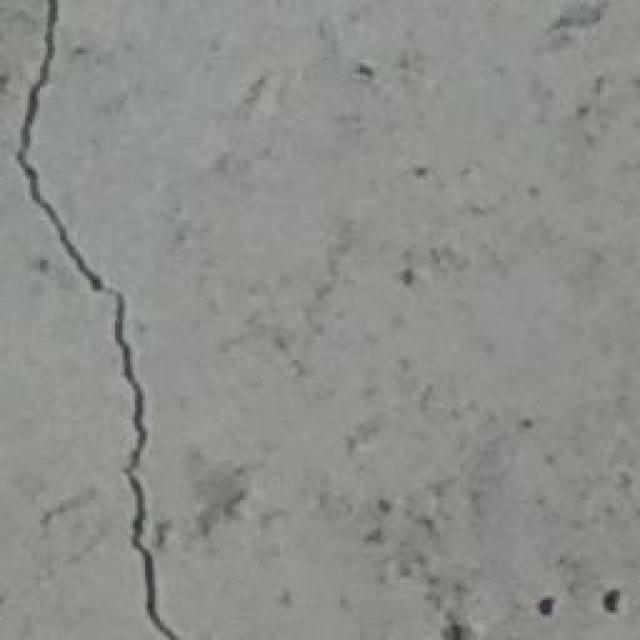Longitudinal: (0, 0, 174, 640)
Rippled: (205, 3, 640, 640)
